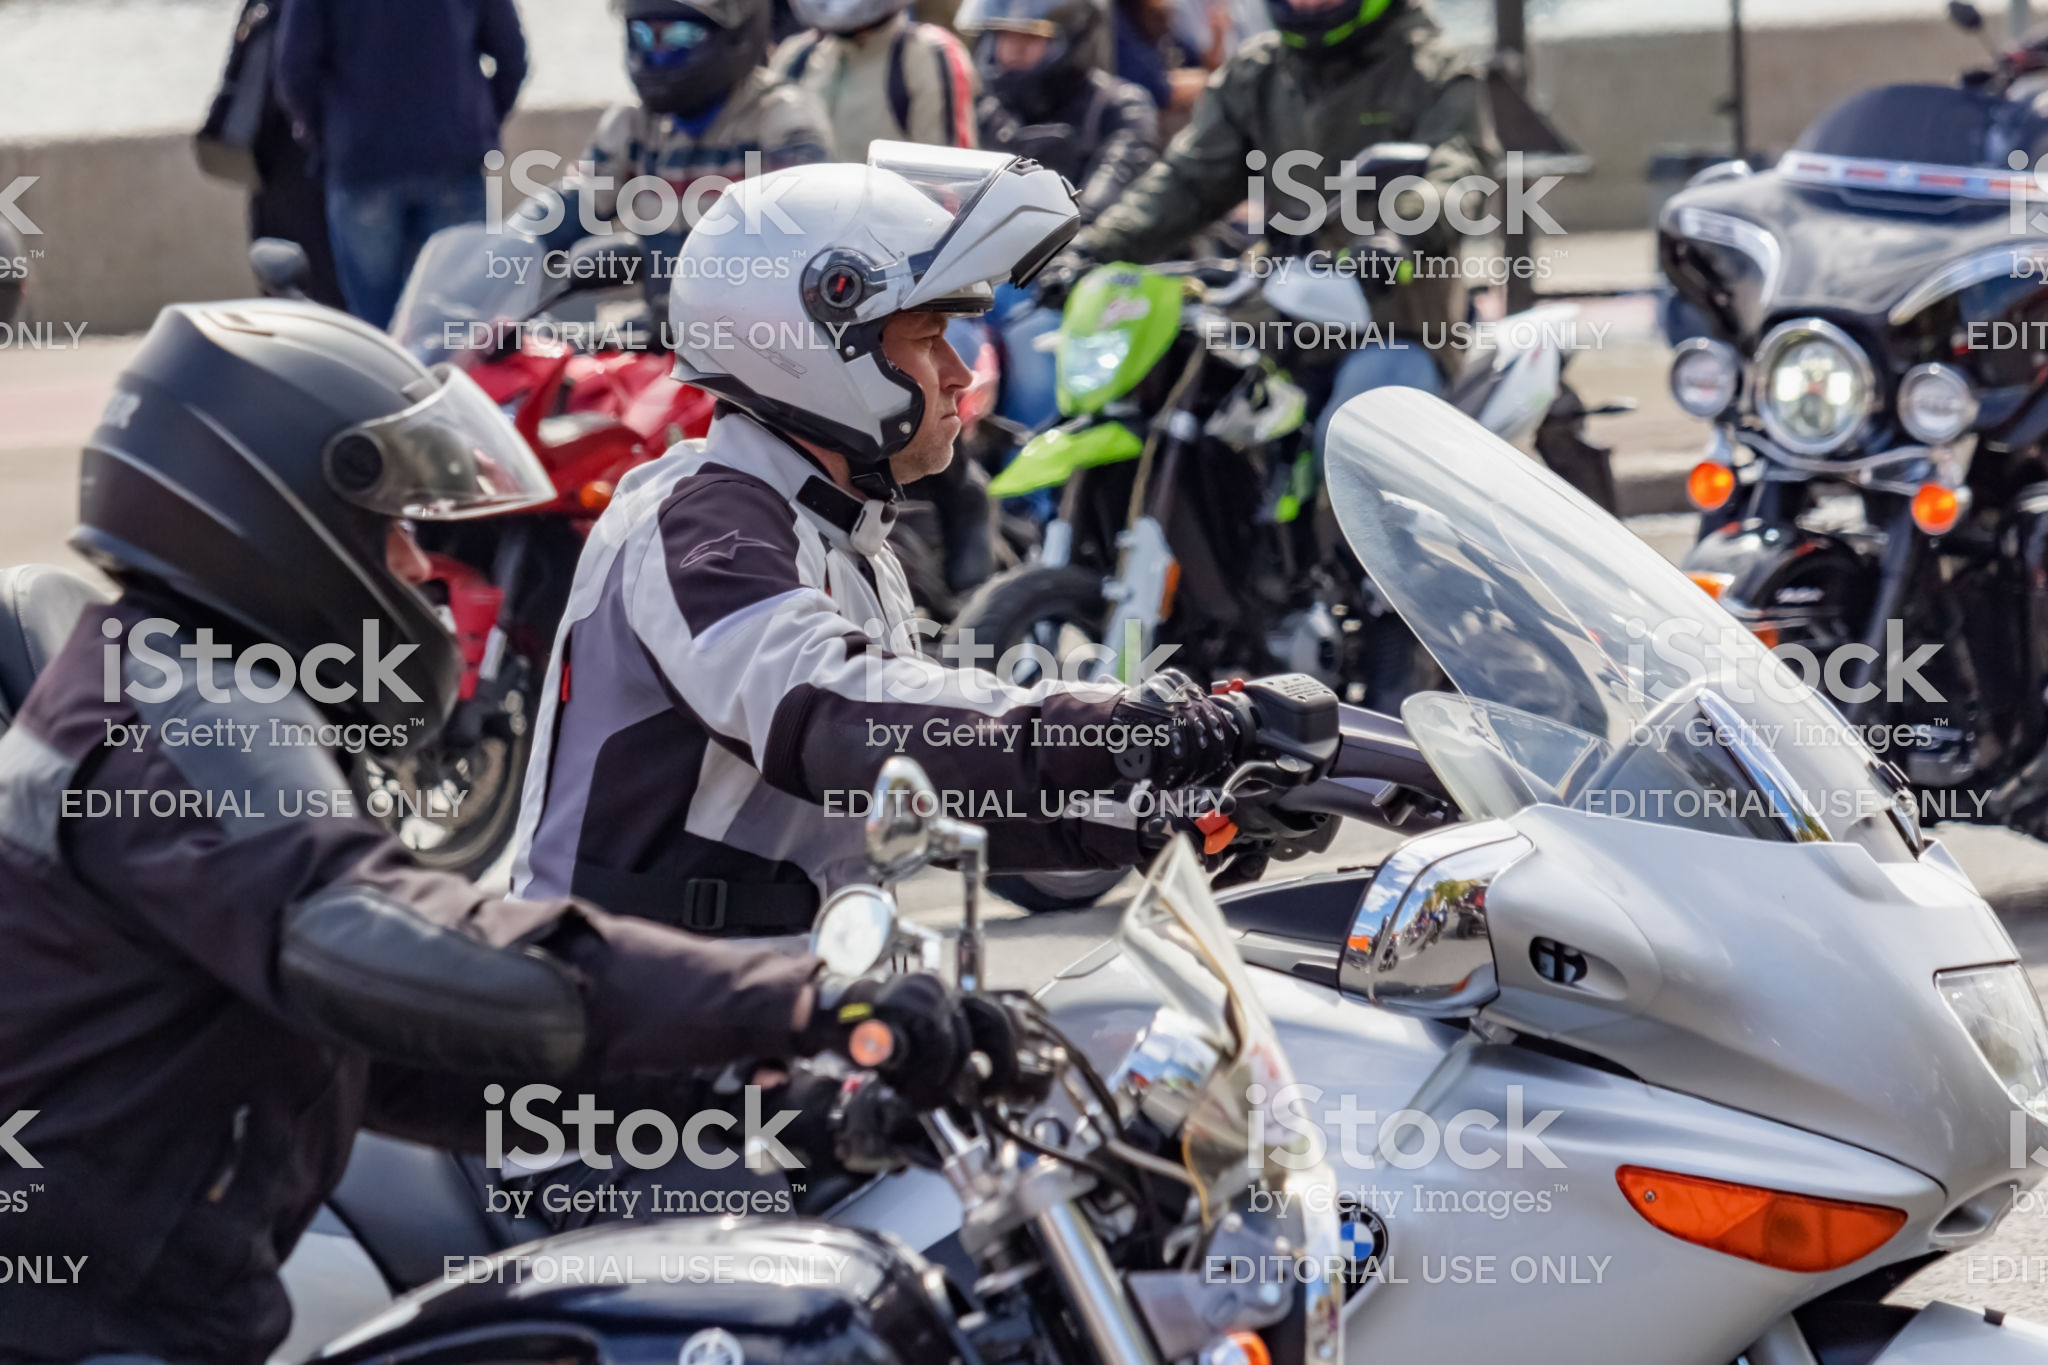helmet: (90, 270, 515, 714), (646, 155, 1063, 433)
